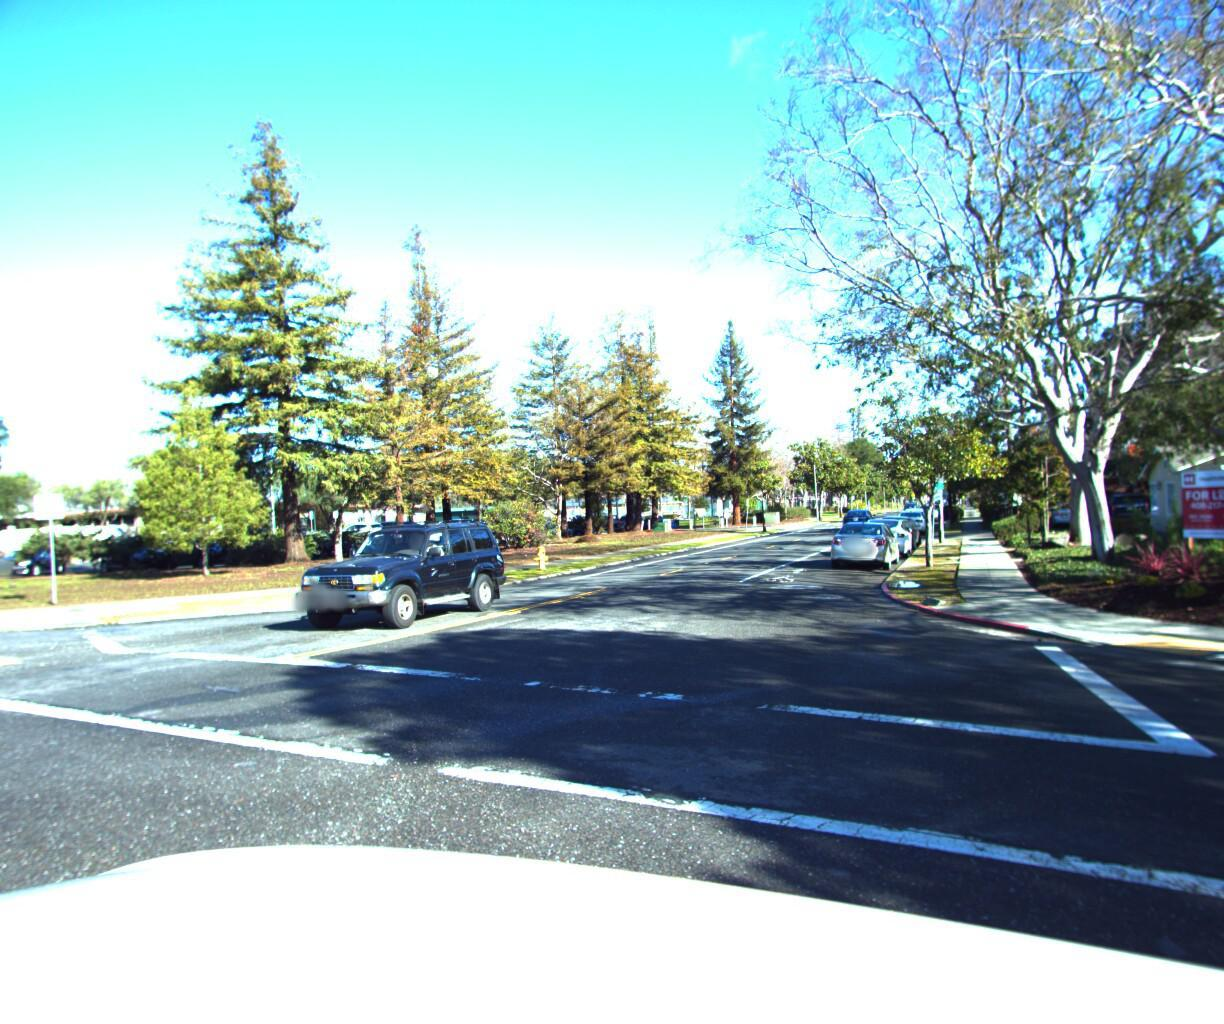car: (276, 508, 516, 637), (827, 509, 899, 567), (853, 507, 914, 553), (869, 504, 923, 545), (1096, 485, 1147, 520), (1045, 492, 1090, 522), (891, 501, 930, 528), (839, 505, 878, 532)
